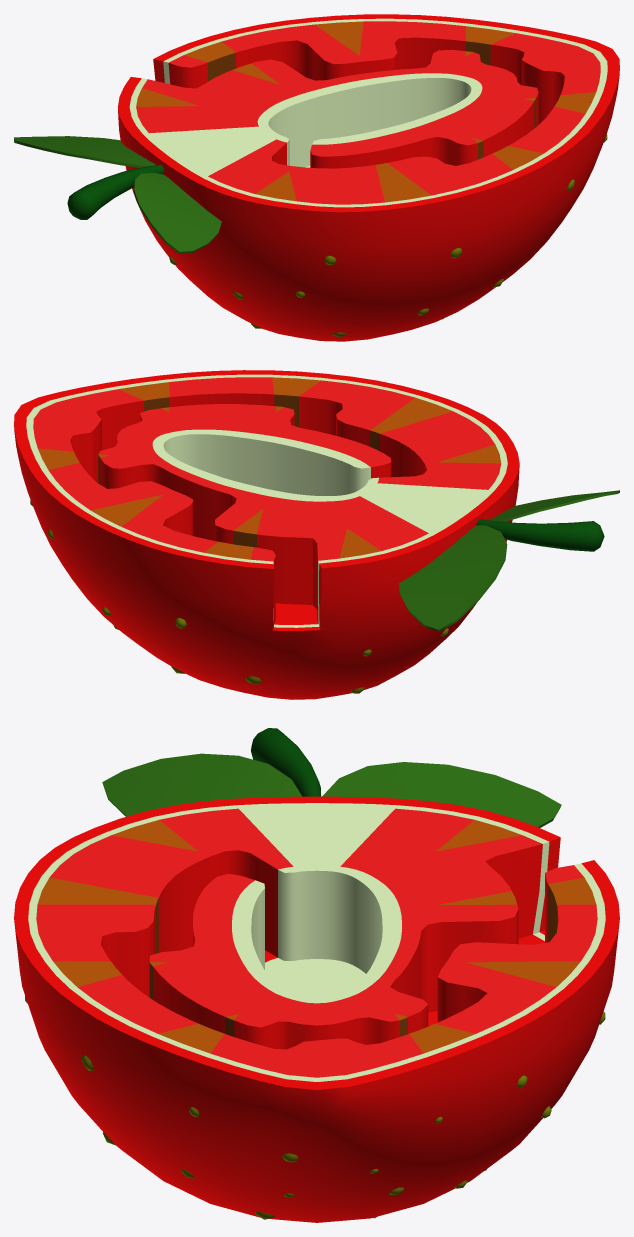
File: Strawberry_2.FBX
The picture shows the model from 3 angles, top to bottom: view 1: azimuth 30°, elevation 25°; view 2: azimuth 150°, elevation 25°; view 3: azimuth 270°, elevation 25°; orthographic projection. The views are drawn at different scales.
Parts seen in each view (by area): view 1: Object8246, Object8250, Object8251, Object8249, Plane003, Object8248, Object8247, Object8252, Line006, Object8253, Sphere003; view 2: Object8246, Object8250, Object8251, Object8249, Plane003, Object8248, Object8247, Object8252, Line006, Object8253, Sphere003; view 3: Object8246, Object8250, Object8251, Object8249, Plane003, Object8248, Object8247, Object8252, Line006, Sphere003, Object8253.
Boxes of the visible parts, left/top/right/bottom form: Object8246: left=118, top=14, right=619, bottom=341; Object8250: left=136, top=21, right=600, bottom=204; Object8251: left=168, top=37, right=564, bottom=168; Object8249: left=257, top=73, right=482, bottom=167; Plane003: left=14, top=136, right=221, bottom=253; Object8248: left=136, top=21, right=596, bottom=202; Object8247: left=129, top=18, right=607, bottom=207; Object8252: left=149, top=126, right=275, bottom=176; Line006: left=67, top=164, right=164, bottom=219; Object8253: left=207, top=41, right=536, bottom=159; Sphere003: left=169, top=134, right=607, bottom=337; Object8246: left=14, top=370, right=519, bottom=699; Object8250: left=33, top=377, right=500, bottom=561; Object8251: left=70, top=393, right=426, bottom=624; Object8249: left=152, top=429, right=378, bottom=501; Plane003: left=399, top=490, right=619, bottom=631; Object8248: left=38, top=377, right=501, bottom=559; Object8247: left=26, top=374, right=507, bottom=627; Object8252: left=360, top=483, right=487, bottom=533; Line006: left=476, top=519, right=604, bottom=551; Object8253: left=98, top=394, right=379, bottom=547; Sphere003: left=30, top=500, right=448, bottom=693; Object8246: left=14, top=796, right=619, bottom=1222; Object8250: left=36, top=808, right=597, bottom=1077; Object8251: left=101, top=844, right=558, bottom=1049; Object8249: left=232, top=865, right=401, bottom=1003; Plane003: left=102, top=753, right=561, bottom=827; Object8248: left=37, top=820, right=596, bottom=1053; Object8247: left=28, top=803, right=605, bottom=1081; Object8252: left=239, top=806, right=394, bottom=866; Line006: left=251, top=728, right=321, bottom=796; Sphere003: left=25, top=996, right=605, bottom=1219; Object8253: left=149, top=885, right=556, bottom=1036.
Size of the model in its own units: 342 by 241 by 121.
